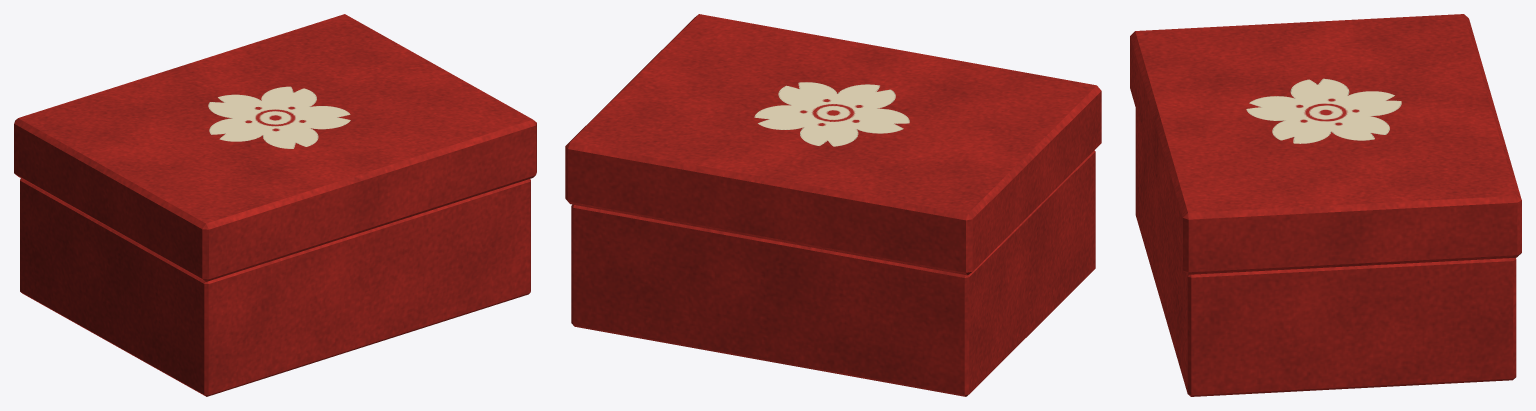
The model's file is LAY_06F.fbx.
The picture shows the model from 3 angles, left to right: view 1: azimuth 30°, elevation 25°; view 2: azimuth 150°, elevation 25°; view 3: azimuth 270°, elevation 25°; orthographic projection. The views are drawn at different scales.
Visible parts, largest first — view 1: LAY_06F_Caja_Roja; view 2: LAY_06F_Caja_Roja; view 3: LAY_06F_Caja_Roja.
Part boxes in pixels (left/top/right/bottom): LAY_06F_Caja_Roja: left=14, top=14, right=536, bottom=396; LAY_06F_Caja_Roja: left=565, top=14, right=1101, bottom=396; LAY_06F_Caja_Roja: left=1130, top=14, right=1521, bottom=396.
Bounding box in the file's own units: 0.2817 × 0.1206 × 0.2295.
